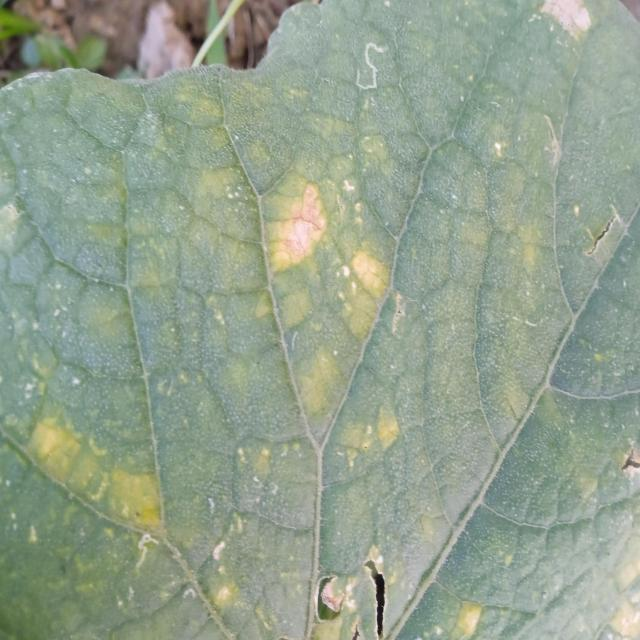cucumber_downy: (3, 89, 635, 635)
